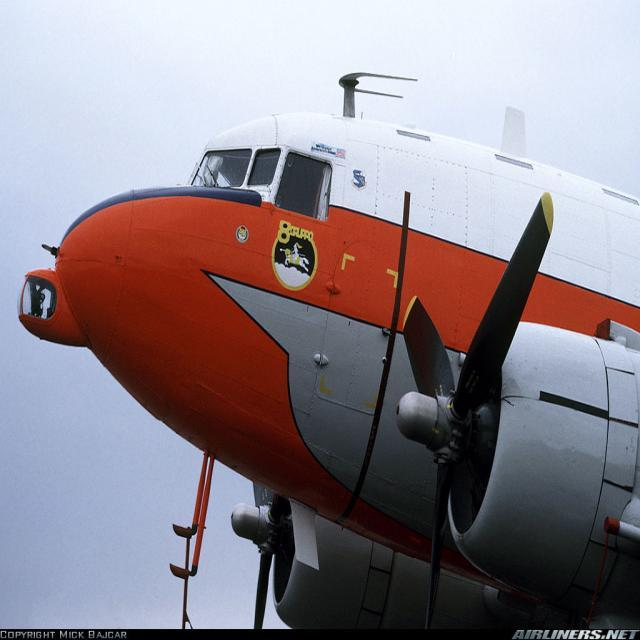crack: (503, 398, 518, 413)
